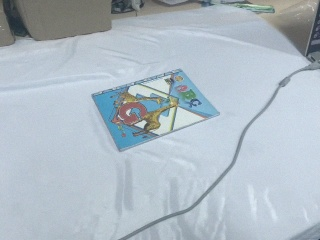book: (91, 66, 225, 155)
box: (1, 1, 114, 42), (1, 1, 16, 49)
